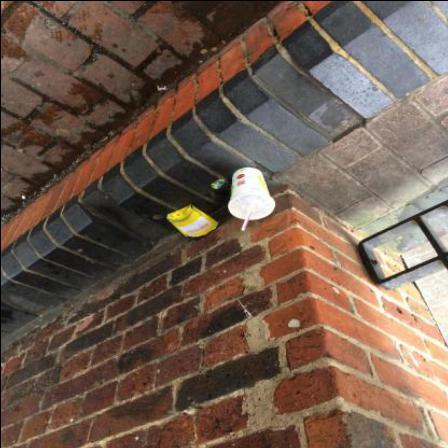Carton: (168, 204, 220, 237)
Cup: (228, 169, 276, 221)
Lid: (228, 193, 276, 221)
Other plastic: (158, 85, 167, 90)
Plastic bag - wrapper: (212, 180, 226, 190)
Straw: (242, 208, 254, 231)
